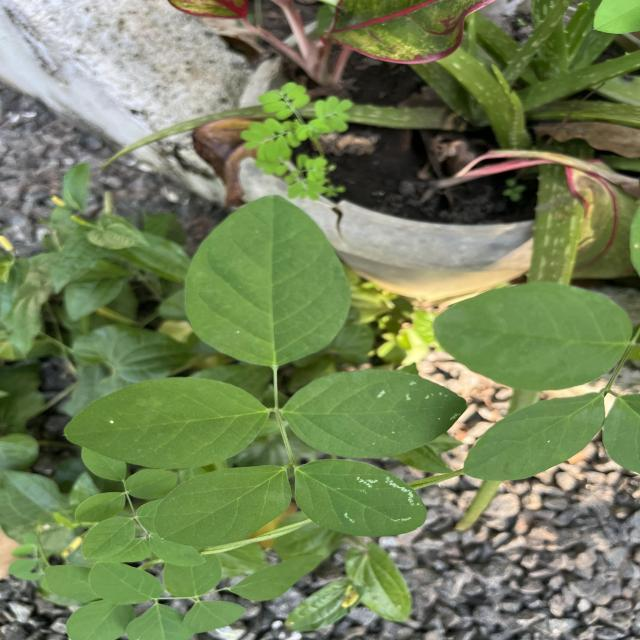Clitoria ternatea: (183, 194, 354, 369), (64, 376, 272, 470), (280, 368, 469, 459), (152, 464, 294, 547), (293, 459, 429, 538)
